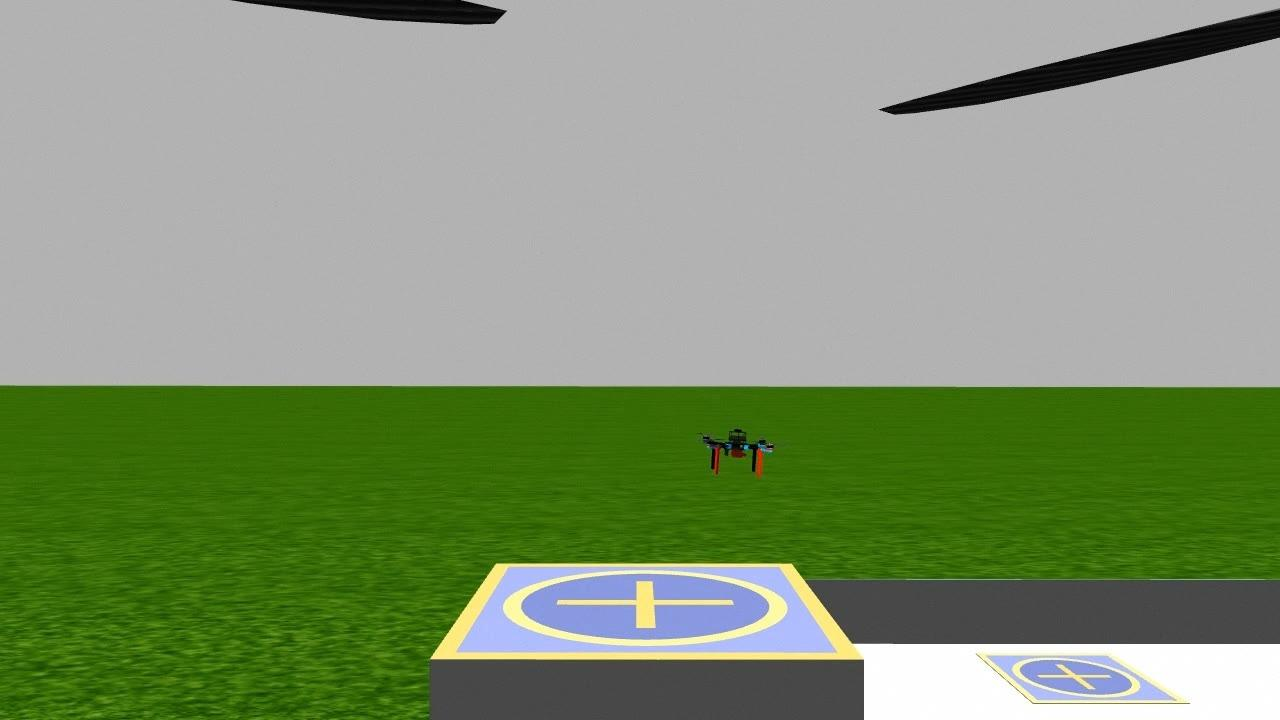UAV: (688, 408, 783, 489)
